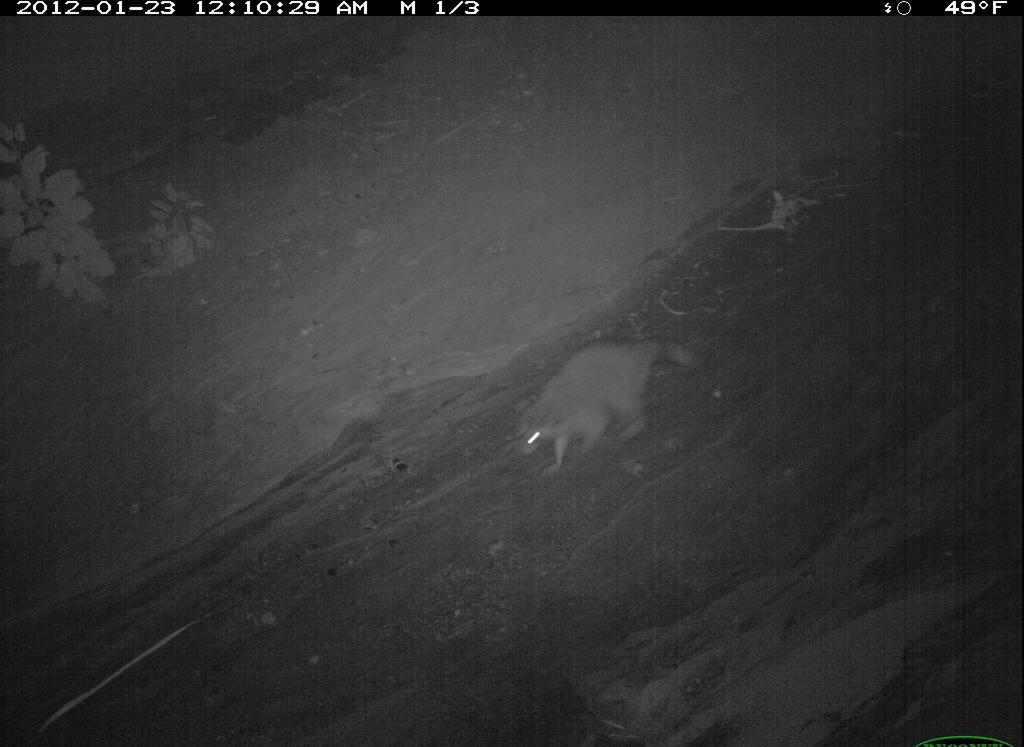raccoon: (1017, 657, 1024, 747)
